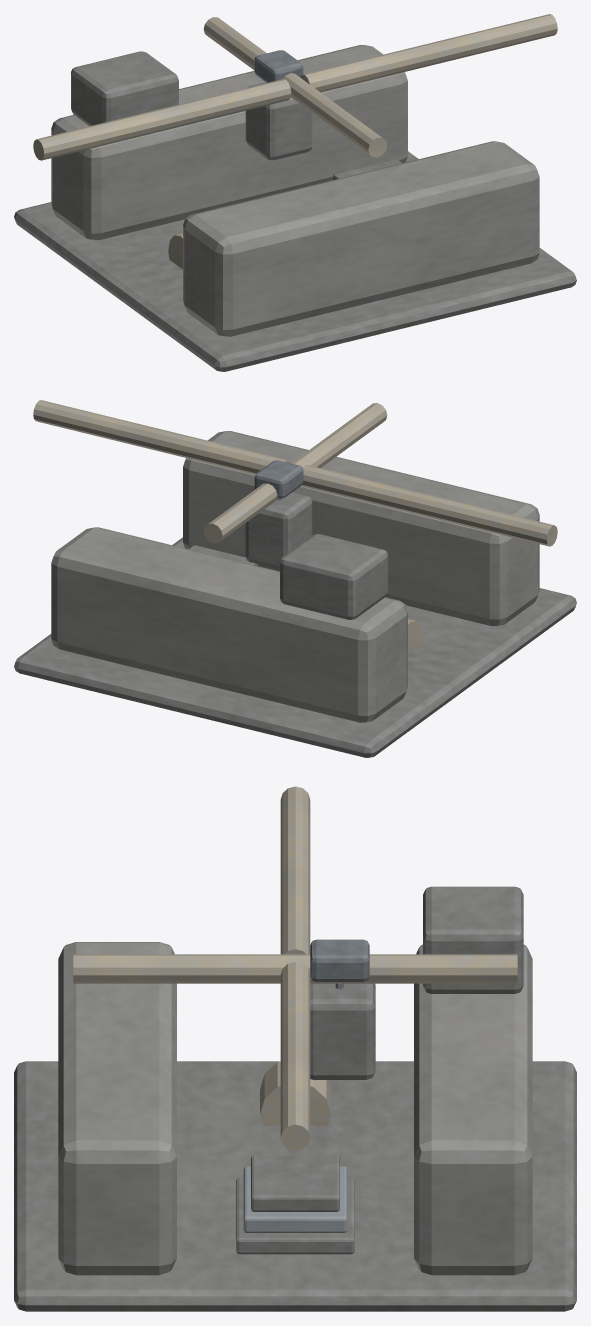
File: com_construction_yard.glb
3 renders of one model, top to bottom at view 1: azimuth 30°, elevation 25°; view 2: azimuth 150°, elevation 25°; view 3: azimuth 270°, elevation 25°, orthographic. The views are drawn at different scales.
Visible parts, largest first — view 1: com_construction_yard; view 2: com_construction_yard; view 3: com_construction_yard.
Boxes of the visible parts, x1,y1,x2,y2 form: com_construction_yard: [14, 14, 576, 371]; com_construction_yard: [14, 400, 576, 757]; com_construction_yard: [14, 786, 576, 1311].
Size of the model in its own units: 2.7 by 0.93 by 1.9.
Materials: 1 (1 with a texture image).
